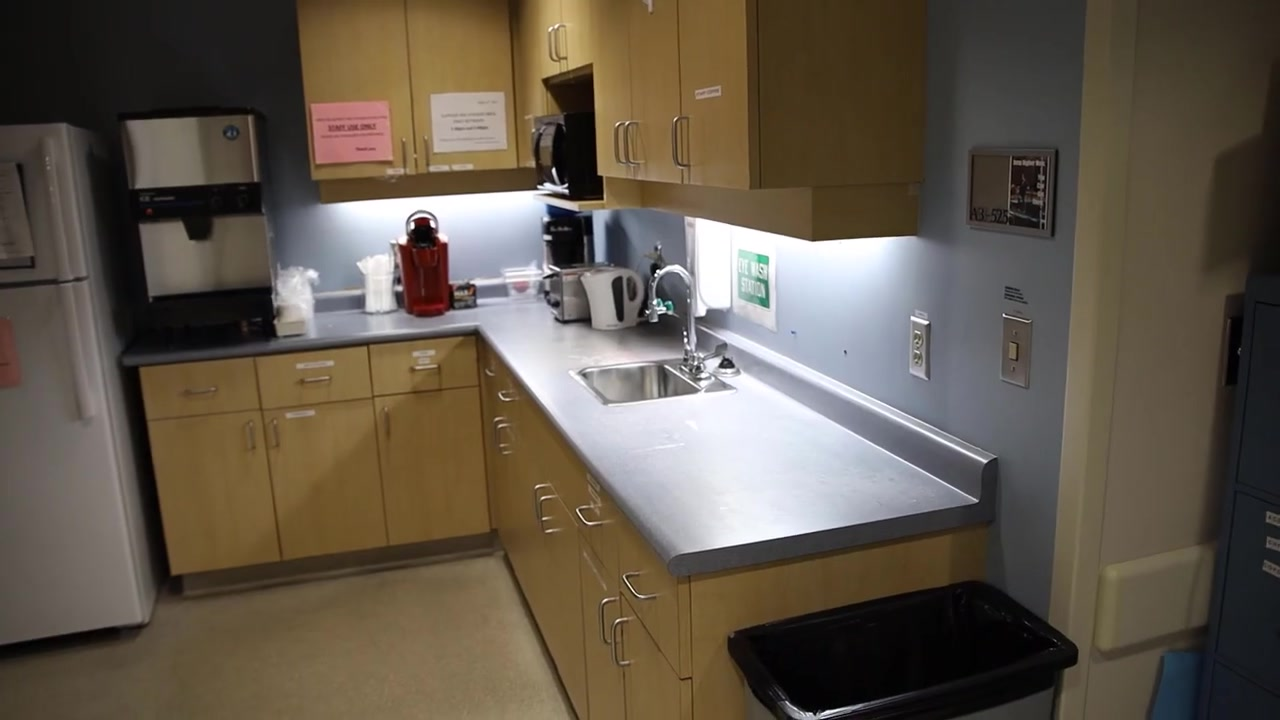cabinet: (294, 1, 926, 192)
counter: (120, 290, 997, 720)
countertop: (477, 293, 980, 577), (117, 298, 478, 368)
dispenser: (683, 215, 732, 317)
faucet: (688, 339, 742, 381)
handle: (34, 138, 87, 284), (52, 280, 105, 425), (621, 570, 666, 600), (668, 116, 692, 172), (529, 478, 555, 528), (536, 491, 560, 540), (571, 506, 614, 532), (611, 617, 632, 666), (622, 120, 641, 168), (599, 596, 617, 646), (613, 121, 629, 168), (300, 362, 332, 384), (553, 24, 570, 64), (185, 383, 222, 401), (378, 406, 395, 442), (494, 422, 513, 454), (546, 23, 561, 63), (488, 414, 503, 453), (409, 359, 442, 376), (268, 417, 285, 450), (397, 137, 411, 175), (244, 421, 261, 452), (420, 136, 435, 169), (496, 391, 522, 402), (484, 369, 497, 378)
light_switch: (1002, 314, 1033, 389)
sink: (573, 360, 700, 405)
waste_bin: (725, 580, 1080, 720)
